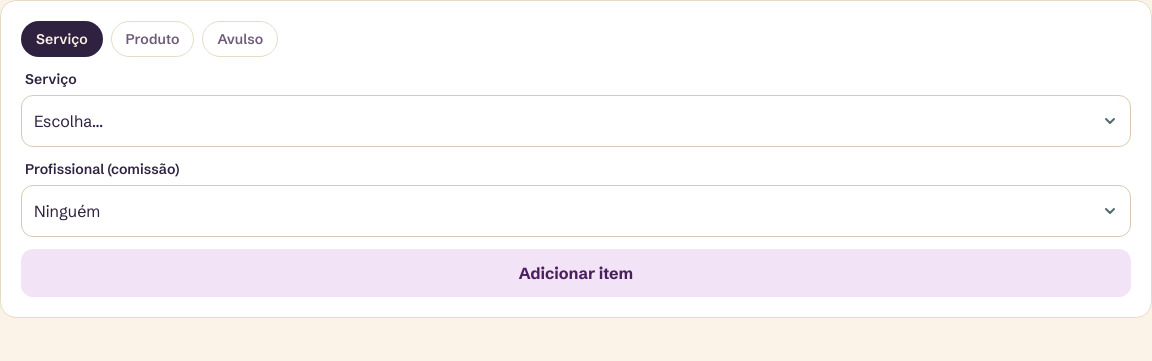
OrderItemForm › produto: só os de venda, quantidade de 1 para cima
Click the button "Produto": (152, 39) 111,21 -> 194,57
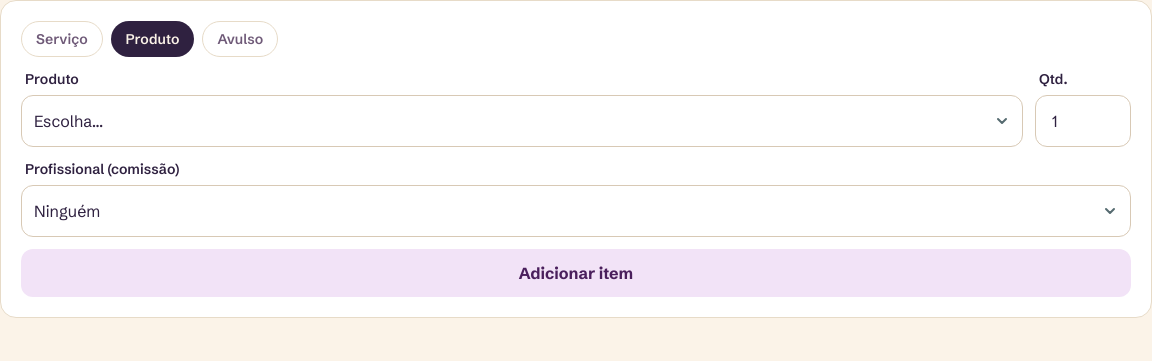
Click the button "Adicionar item": (576, 273) 21,249 -> 1131,297
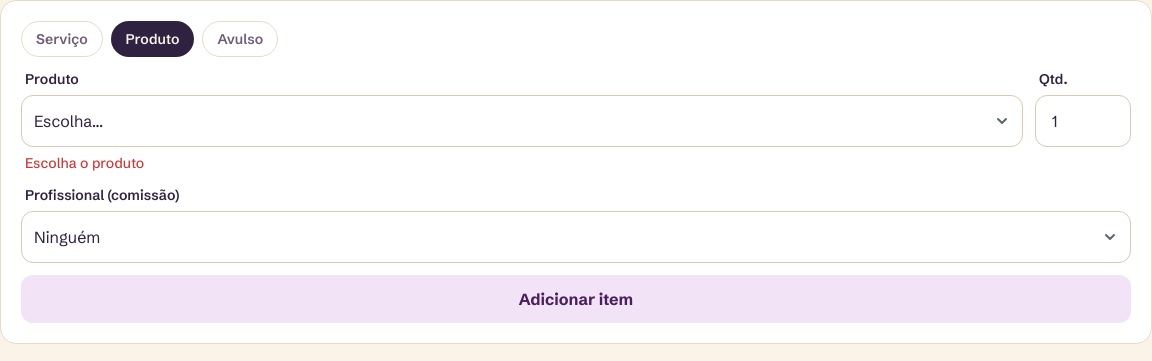
Select "Pomada · R$ 30,00 (4 un)" in the dropdown labelled "Produto": (522, 121) 21,95 -> 1023,147
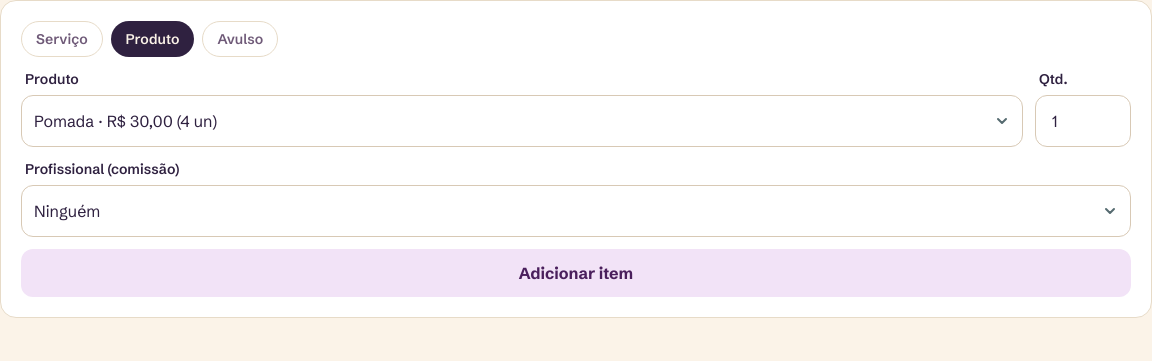
Replace the text in the number field labelled "Qtd." with "0": (1083, 121) 1052,96 -> 1114,146
Click the button "Adicionar item": (576, 273) 21,249 -> 1131,297
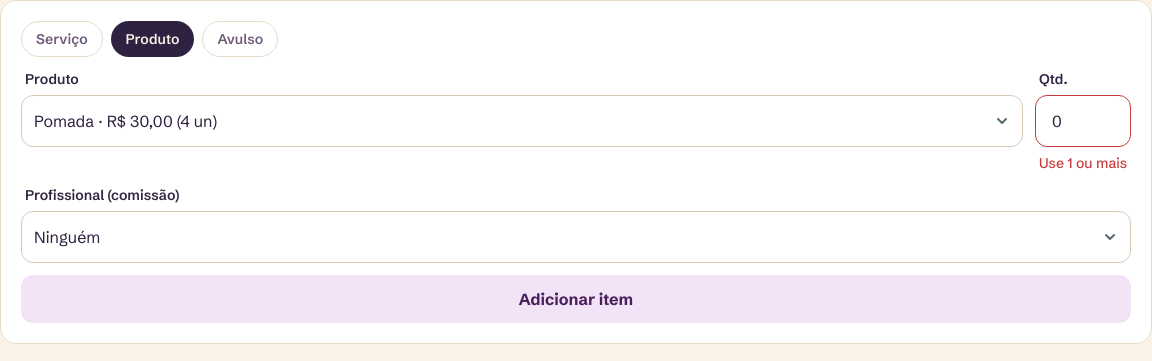
Replace the text in the number field labelled "Qtd." with "2": (1083, 121) 1052,96 -> 1114,146
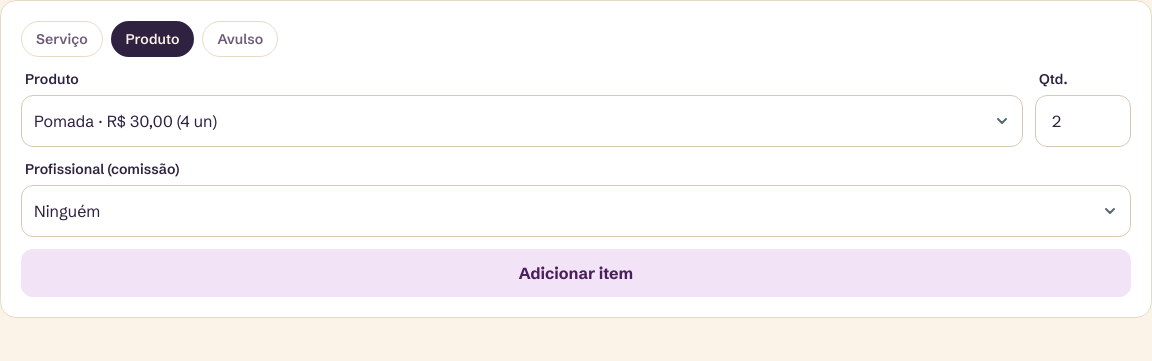
Click the button "Adicionar item": (576, 273) 21,249 -> 1131,297
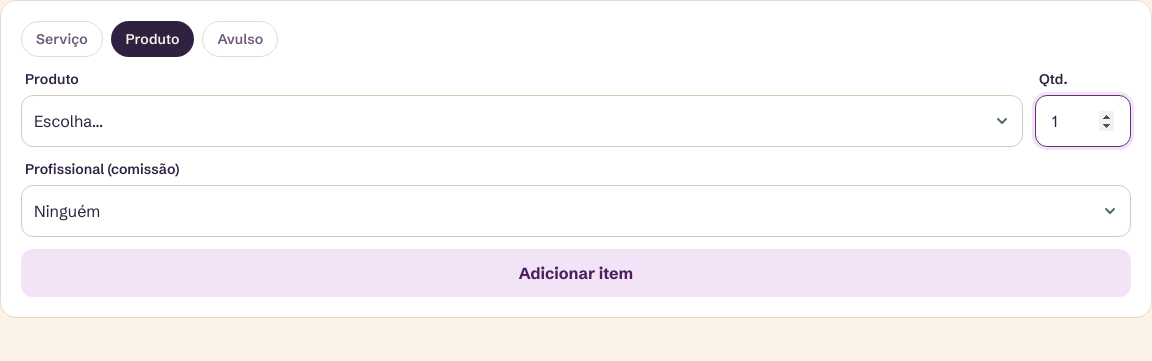
Check: the number field labelled "Qtd." holds "1", box 1052,96 -> 1114,146
